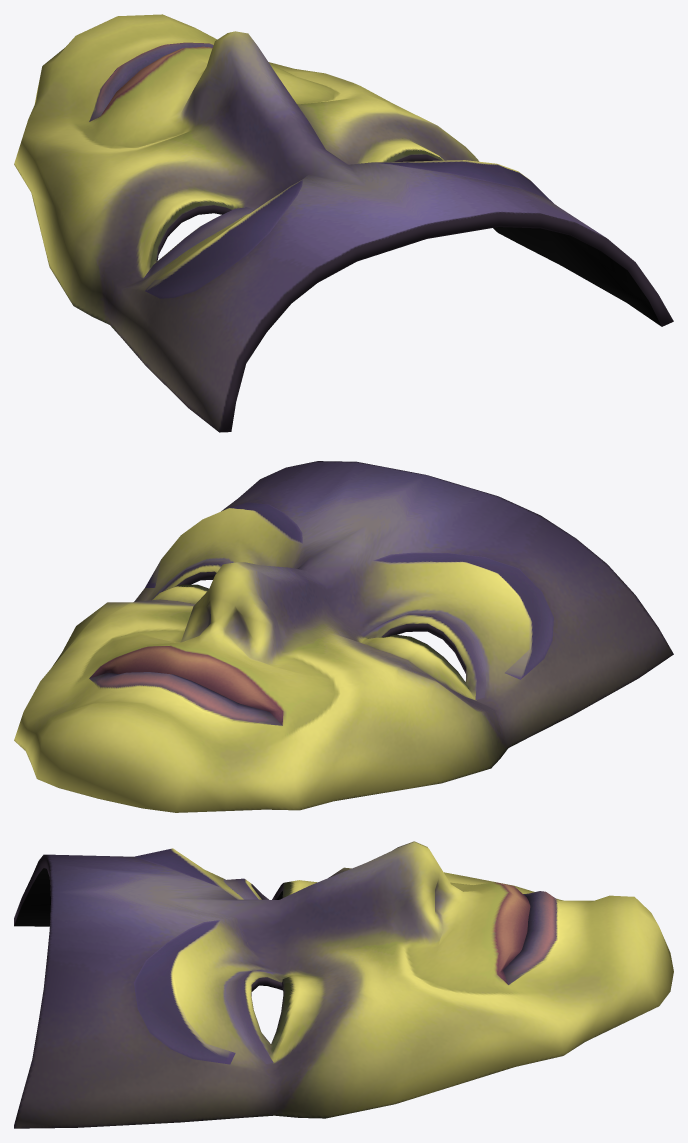
File: anim1_000182.obj
3 views of the same model, one above another, from view 1: azimuth 30°, elevation 25°; view 2: azimuth 150°, elevation 25°; view 3: azimuth 270°, elevation 25° (orthographic). The views are drawn at different scales.
Parts seen in each view (by area): view 1: 151out; view 2: 151out; view 3: 151out.
Part boxes in pixels (left/top/right/bottom): 151out: left=14, top=14, right=673, bottom=432; 151out: left=14, top=461, right=673, bottom=812; 151out: left=14, top=841, right=673, bottom=1128.
Bounding box in the file's own units: 4.16 × 1.69 × 5.52.
